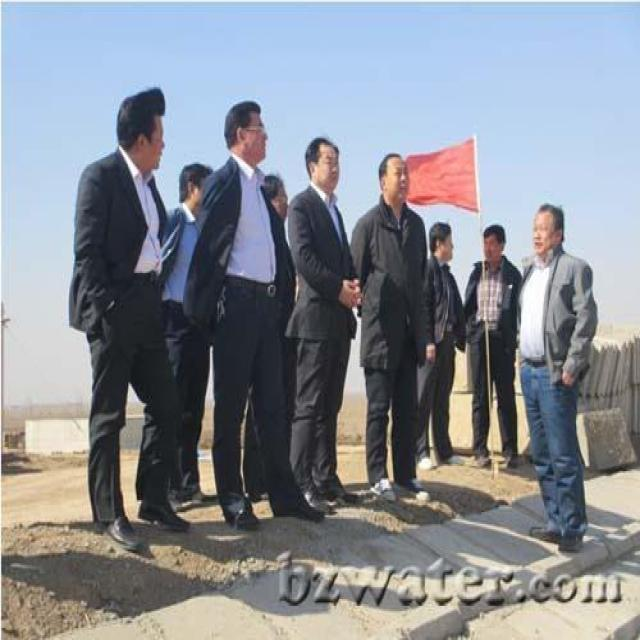no-helmet: (106, 84, 172, 175), (224, 94, 271, 169), (375, 144, 415, 220), (176, 159, 217, 227), (305, 136, 347, 200), (528, 198, 570, 259), (425, 215, 458, 270), (264, 172, 292, 224), (480, 220, 511, 265)
